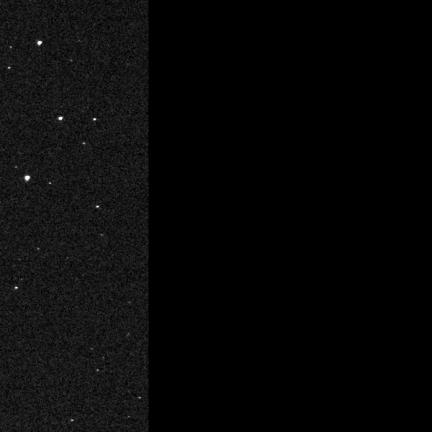blob: (25, 176, 30, 181), (58, 117, 64, 121), (37, 41, 42, 45), (93, 118, 97, 122), (15, 287, 19, 290), (8, 67, 11, 70), (96, 206, 100, 208)
